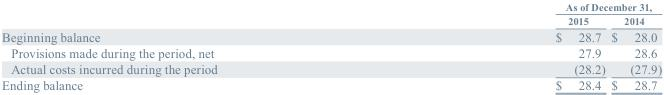table: (1, 0, 661, 92)
table column: (1, 0, 385, 92), (385, 0, 607, 92), (607, 0, 661, 92)
table column header: (1, 0, 661, 27)
table row: (1, 27, 661, 44), (1, 44, 661, 60), (1, 60, 661, 76), (1, 76, 661, 92), (1, 13, 661, 27), (1, 0, 661, 13)
table spanning cell: (385, 0, 661, 13)
